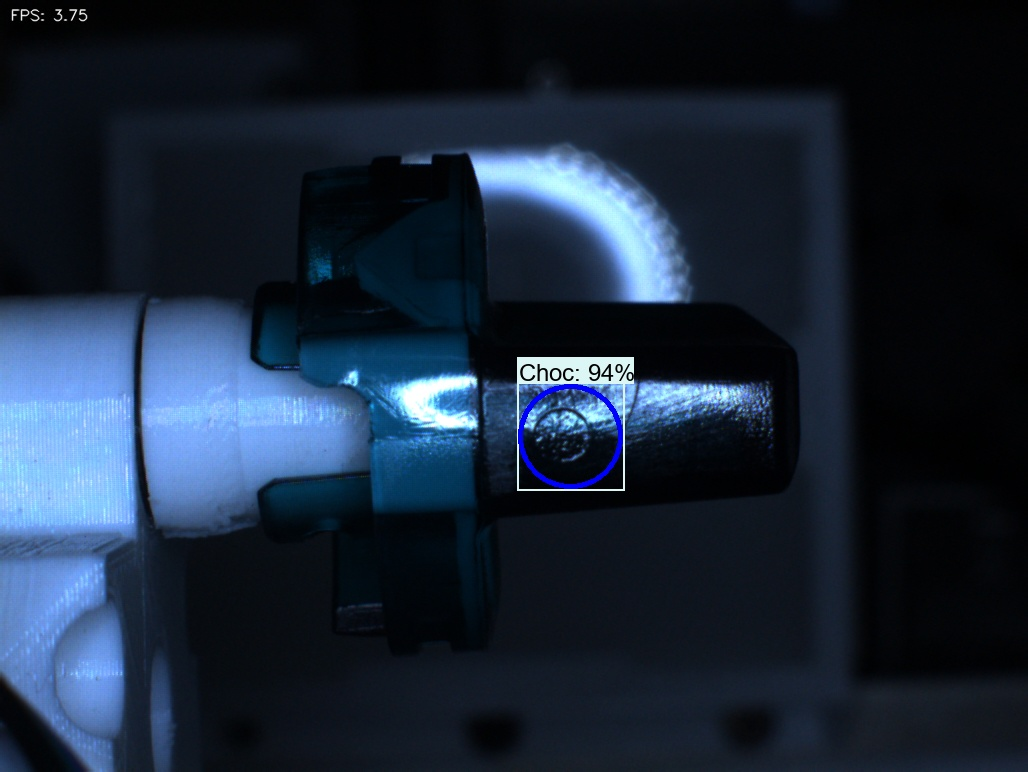DentOk: (325, 216, 400, 299)
